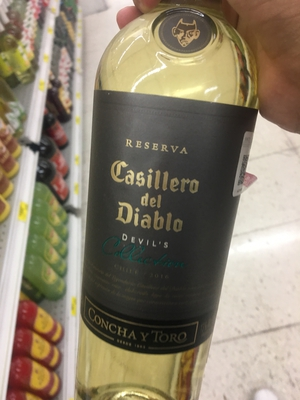casillero del diablo devils collection verde: (84, 20, 275, 400)
